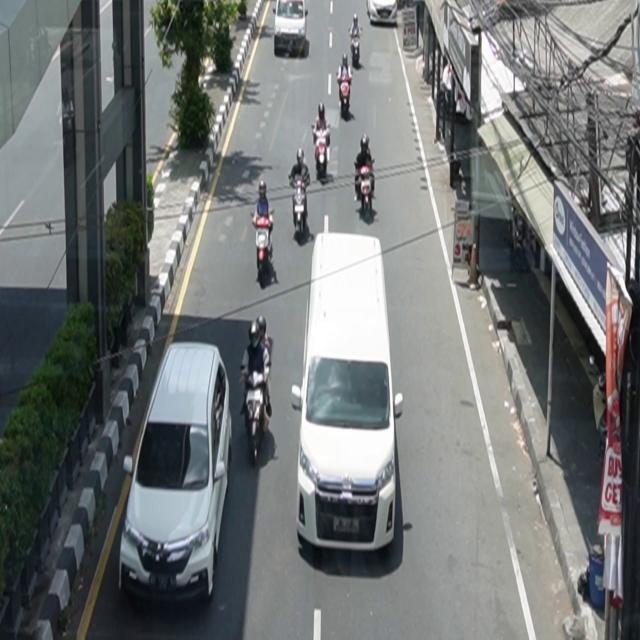car: (119, 341, 233, 607), (274, 1, 309, 58)
truck: (292, 218, 404, 556)
